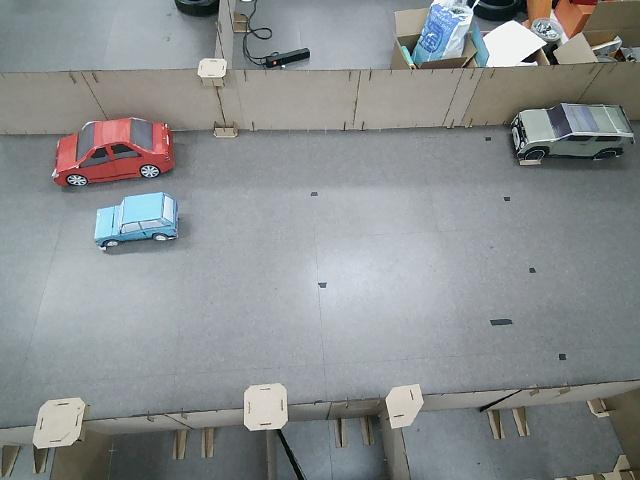car: (51, 117, 175, 187), (511, 103, 634, 163), (94, 193, 179, 250)
